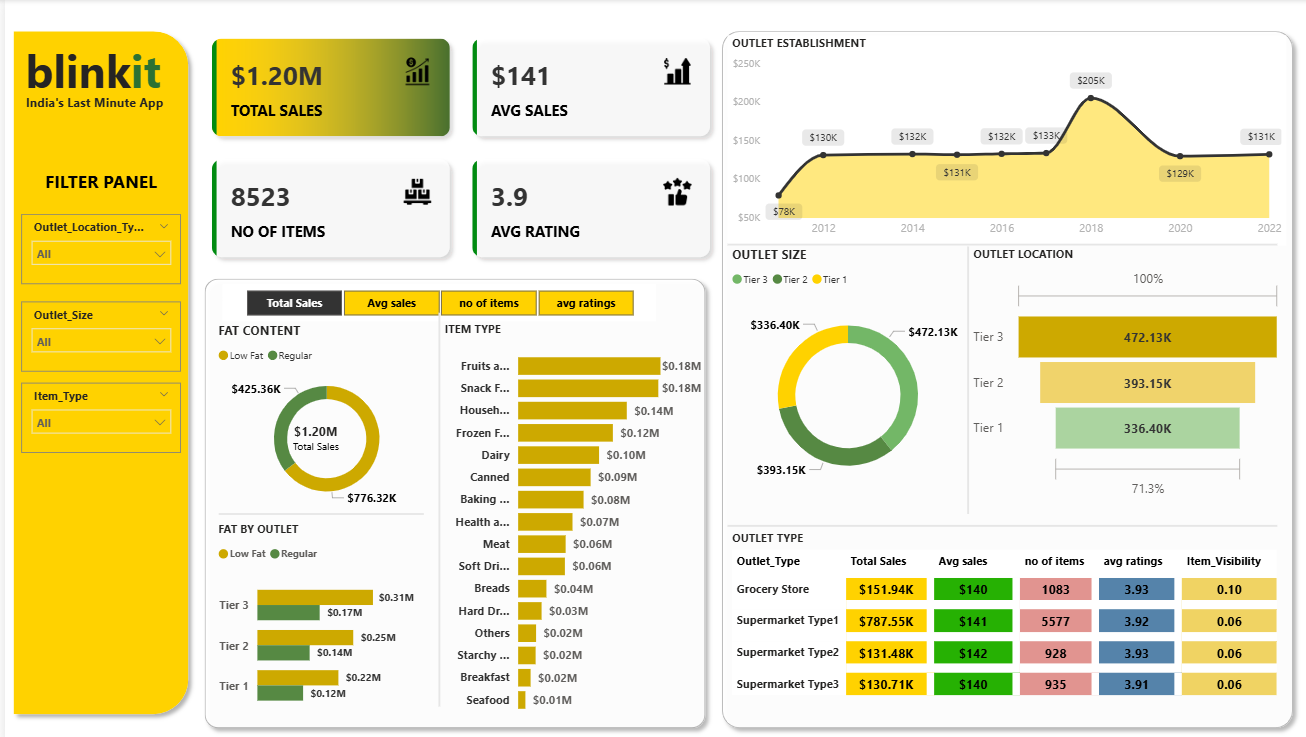

The dashboard page shown, as its layout file describes it:
{"tool":"powerbi","page":{"name":"Page 1","canvas":[1400,800],"ordinal":0},"visuals":[{"type":"shape","box":[0,25.5,205.6,750.4],"z":0},{"type":"textbox","box":[10.7,38.9,167.6,75.1],"z":1000},{"type":"textbox","box":[17.4,96.5,171.6,33.5],"z":2000},{"type":"cardVisual","fields":{"Data":["BlinkIT_Data.Total Sales","BlinkIT_Data.Avg sales","BlinkIT_Data.no of items","BlinkIT_Data.avg ratings"]},"box":[205.1,25.5,569.7,269.4],"z":3000},{"type":"shape","box":[205.1,290.9,555,500],"z":4000},{"type":"donutChart","title":"FAT CONTENT","fields":{"Y":["BlinkIT_Data.Total Sales"],"Category":["BlinkIT_Data.Item_Fat_Content"]},"box":[223.9,345.8,242.6,206.4],"z":5000},{"type":"slicer","fields":{"Values":["Metrixs.Metrixs"]},"box":[233.2,305.6,465.1,40.2],"z":6000},{"type":"cardVisual","fields":{"Data":["BlinkIT_Data.Total Sales"]},"box":[281.5,434.3,104.6,71],"z":7000},{"type":"clusteredBarChart","title":"FAT BY OUTLET","fields":{"Y":["BlinkIT_Data.Total Sales"],"Category":["BlinkIT_Data.Outlet_Location_Type"],"Series":["BlinkIT_Data.Item_Fat_Content"]},"box":[223.9,560.3,219.8,215.8],"z":8000},{"type":"shape","box":[229.2,526.8,219.8,50.9],"z":9000},{"type":"shape","box":[449.1,336.5,33.5,422.3],"z":10000},{"type":"barChart","title":"ITEM TYPE","fields":{"Y":["BlinkIT_Data.Total Sales"],"Category":["BlinkIT_Data.Item_Type"]},"box":[466.5,345.8,285.5,430.3],"z":11000},{"type":"shape","box":[760.1,25.5,630,765.4],"z":12000},{"type":"lineChart","title":"OUTLET ESTABLISHMENT","fields":{"Y":["BlinkIT_Data.Total Sales"],"Category":["BlinkIT_Data.Outlet_Establishment_Year"]},"box":[774.8,38.9,599.2,225.2],"z":13000},{"type":"shape","box":[774.8,242.6,589.8,41.6],"z":14000},{"type":"donutChart","title":"OUTLET SIZE","fields":{"Category":["BlinkIT_Data.Outlet_Location_Type"],"Y":["BlinkIT_Data.Total Sales"]},"box":[774.8,264.1,258.7,277.5],"z":15000},{"type":"shape","box":[1016.1,265.4,33.5,286.9],"z":16000},{"type":"funnel","title":"OUTLET LOCATION","fields":{"Category":["BlinkIT_Data.Outlet_Location_Type"],"Y":["Sum(BlinkIT_Data.Sales)"]},"box":[1033.5,265.4,340.5,276.1],"z":17000},{"type":"shape","box":[774.8,552.3,589.8,25.5],"z":18000},{"type":"pivotTable","title":"OUTLET TYPE","fields":{"Rows":["BlinkIT_Data.Outlet_Type"],"Values":["BlinkIT_Data.Total Sales","BlinkIT_Data.Avg sales","BlinkIT_Data.no of items","BlinkIT_Data.avg ratings","Avg(BlinkIT_Data.Item_Visibility)"]},"box":[774.8,569.7,599.2,206.4],"z":19000},{"type":"slicer","fields":{"Values":["BlinkIT_Data.Outlet_Location_Type"]},"box":[17.4,230.6,171.6,75.1],"z":20000},{"type":"slicer","fields":{"Values":["BlinkIT_Data.Outlet_Size"]},"box":[17.4,324.4,171.6,75.1],"z":21000},{"type":"slicer","fields":{"Values":["BlinkIT_Data.Item_Type"]},"box":[17.4,411.5,171.6,75.1],"z":22000},{"type":"textbox","box":[17.4,178.3,171.6,42.9],"z":23000}]}

Visuals, with their boxes in screenshot pixels (x1, y1, x2, y2), scaled from the page's 1400x800 canvas onto the 1306x737 screenshot:
shape: <box>0,23,192,715</box>
textbox: <box>10,36,166,105</box>
textbox: <box>16,89,176,120</box>
cardVisual - BlinkIT_Data.Total Sales x BlinkIT_Data.Avg sales: <box>191,23,723,272</box>
shape: <box>191,268,709,729</box>
"FAT CONTENT" donutChart: <box>209,319,435,509</box>
slicer - Metrixs.Metrixs: <box>218,282,651,319</box>
cardVisual - BlinkIT_Data.Total Sales: <box>263,400,360,466</box>
"FAT BY OUTLET" clusteredBarChart: <box>209,516,414,715</box>
shape: <box>214,485,419,532</box>
shape: <box>419,310,450,699</box>
"ITEM TYPE" barChart: <box>435,319,702,715</box>
shape: <box>709,23,1297,729</box>
"OUTLET ESTABLISHMENT" lineChart: <box>723,36,1282,243</box>
shape: <box>723,223,1273,262</box>
"OUTLET SIZE" donutChart: <box>723,243,964,499</box>
shape: <box>948,244,979,509</box>
"OUTLET LOCATION" funnel: <box>964,244,1282,499</box>
shape: <box>723,509,1273,532</box>
"OUTLET TYPE" pivotTable: <box>723,525,1282,715</box>
slicer - BlinkIT_Data.Outlet_Location_Type: <box>16,212,176,282</box>
slicer - BlinkIT_Data.Outlet_Size: <box>16,299,176,368</box>
slicer - BlinkIT_Data.Item_Type: <box>16,379,176,448</box>
textbox: <box>16,164,176,204</box>
